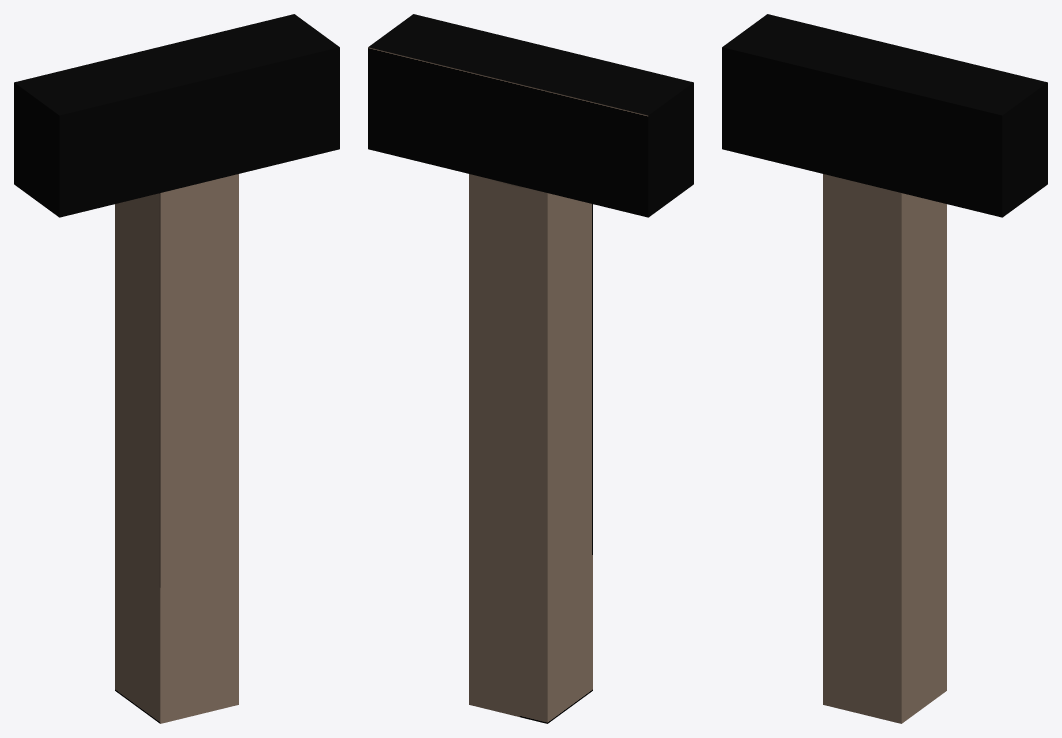
The model's file is Hammer.glb.
3 views of the same model, side by side, from view 1: azimuth 30°, elevation 25°; view 2: azimuth 150°, elevation 25°; view 3: azimuth 330°, elevation 25° (orthographic).
Parts seen in each view (by area): view 1: Hammer; view 2: Hammer; view 3: Hammer.
Part boxes in pixels (x1,y1,x2,y2): Hammer: (14, 14, 339, 723); Hammer: (368, 14, 693, 723); Hammer: (722, 14, 1047, 723).
Bounding box in the file's own units: 0.3058 × 0.6598 × 0.0857.
Materials: 1 (1 with a texture image).
